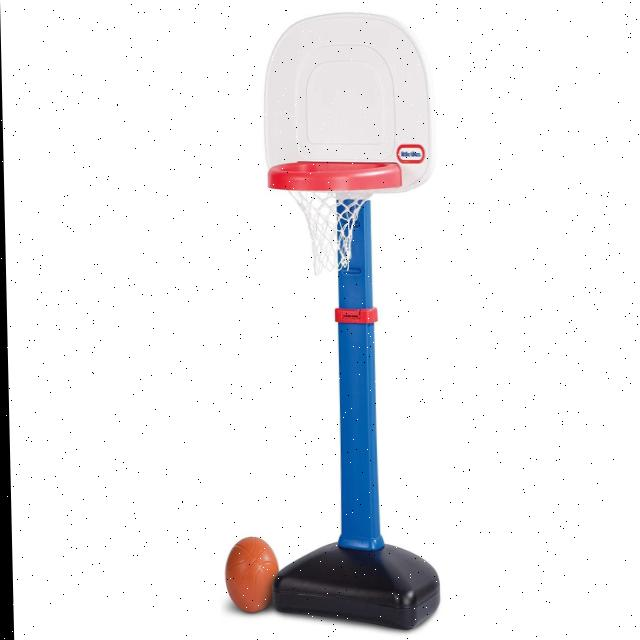basketball: (224, 537, 280, 613)
hoop: (267, 162, 404, 276)
